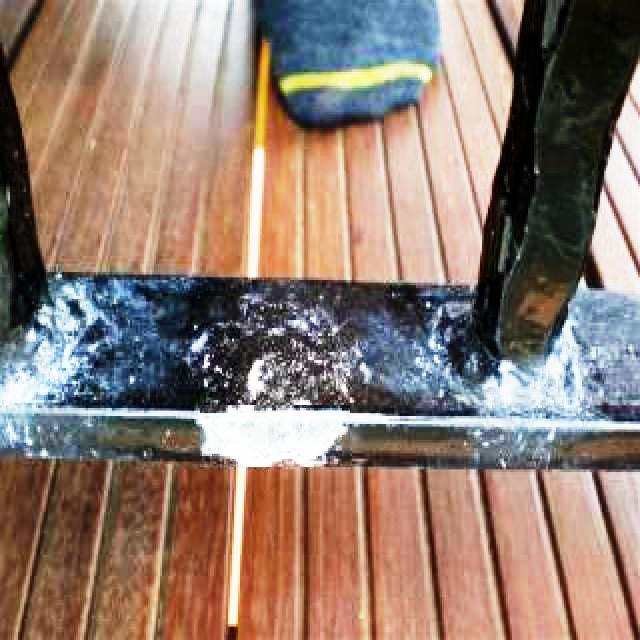Corrosion: (529, 273, 560, 336)
